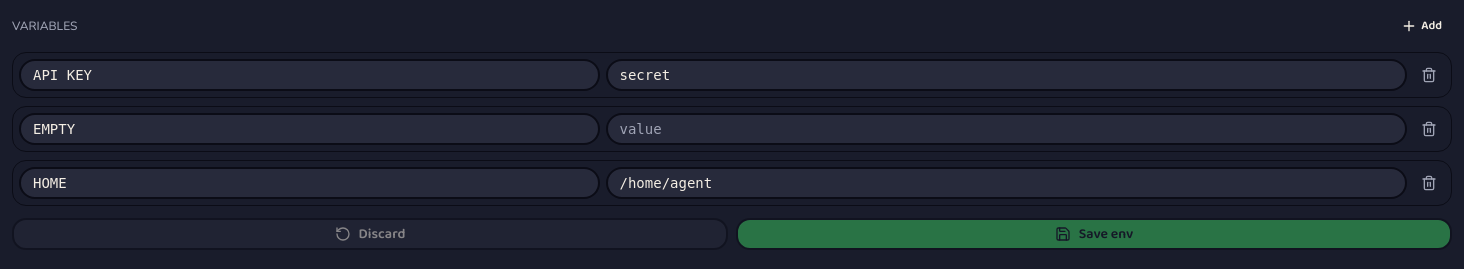
Test: AgentEnvEditor › discards pending edits
Replace the text in the field named "Value for API_KEY" with "changed". click: x=1006, y=75
box: [606,59,1407,91]
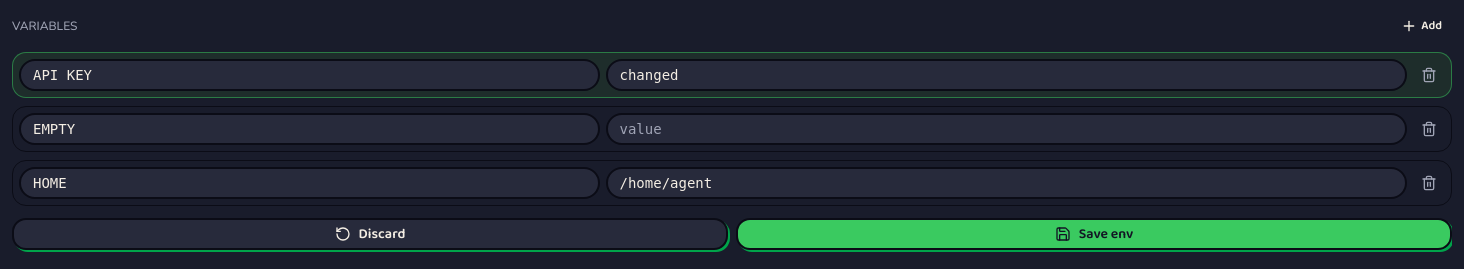
Click the button named "Remove HOME". click: x=1429, y=183
box: [1413,167,1445,199]
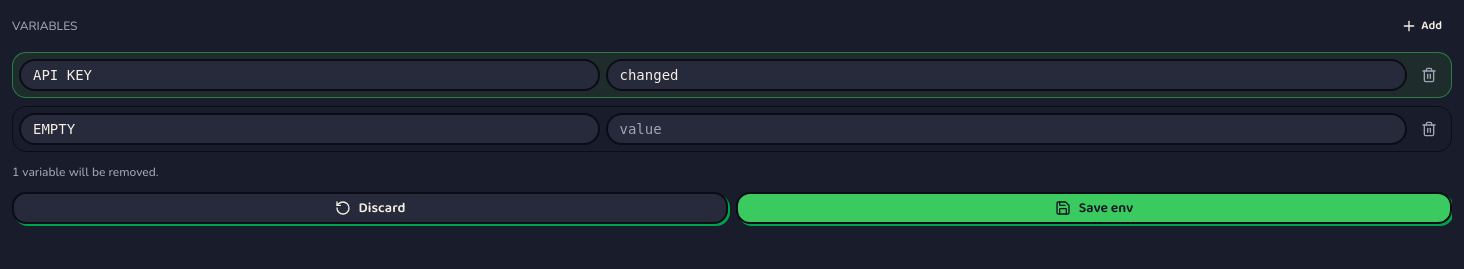
Click the button "Discard". click: x=370, y=208
box: [12,192,728,224]
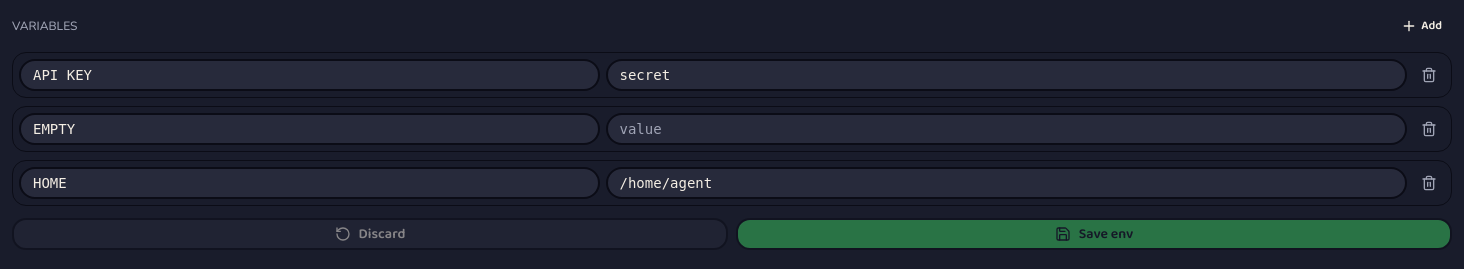
Expected: the field named "Value for HOME" holds "/home/agent", [606,167,1407,199]
Expected: the field named "Value for API_KEY" holds "secret", [606,59,1407,91]
